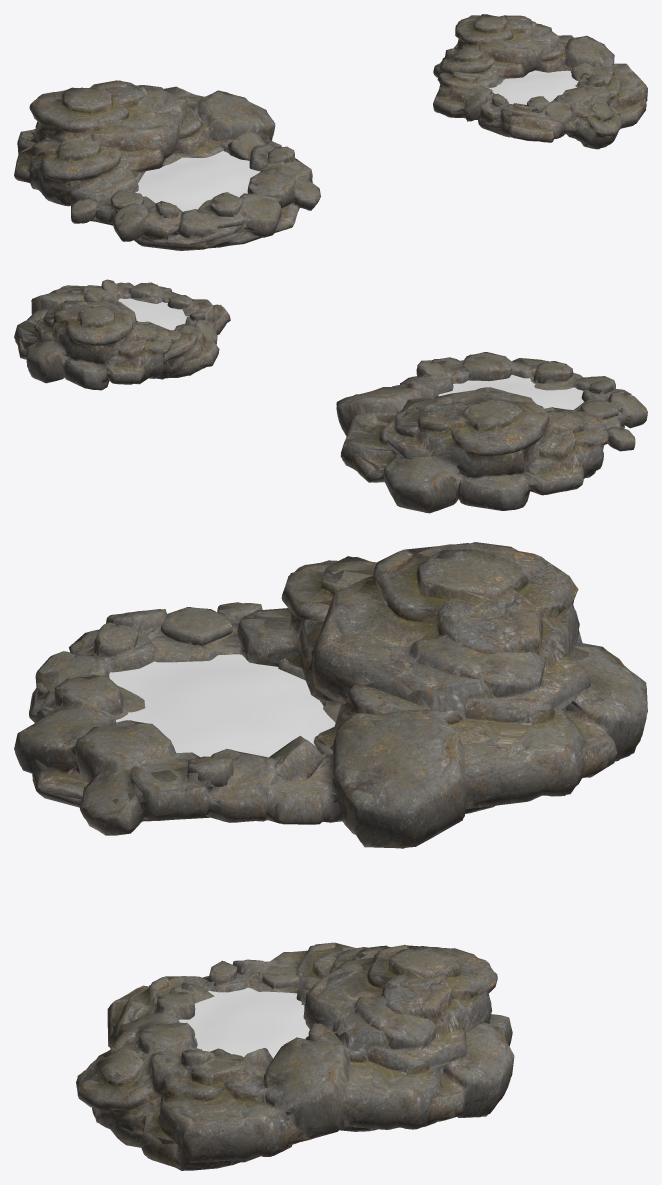
Rendered from StoneWells_A.fbx.
The picture shows the model from 3 angles, top to bottom: view 1: azimuth 30°, elevation 25°; view 2: azimuth 150°, elevation 25°; view 3: azimuth 270°, elevation 25°; orthographic projection. The views are drawn at different scales.
Visible parts, largest first — view 1: StoneWell_1A1, StoneWell_1A1.001, StoneWell_1A1.002, StoneWell_1A2, StoneWell_1A2.001, StoneWell_1A2.002, StoneWell_Water_1A1, StoneWell_Water_1A2; view 2: StoneWell_1A1, StoneWell_1A1.001, StoneWell_1A1.002, StoneWell_1A2, StoneWell_1A2.001, StoneWell_1A2.002, StoneWell_Water_1A1, StoneWell_Water_1A2; view 3: StoneWell_1A1, StoneWell_1A1.001, StoneWell_1A1.002, StoneWell_1A2, StoneWell_1A2.002, StoneWell_1A2.001, StoneWell_Water_1A1, StoneWell_Water_1A2.
Boxes of the visible parts, x1,y1,x2,y2 form: StoneWell_1A1: (14, 80, 320, 249); StoneWell_1A1.001: (14, 80, 320, 250); StoneWell_1A1.002: (14, 80, 320, 250); StoneWell_1A2: (433, 14, 647, 148); StoneWell_1A2.001: (433, 14, 647, 149); StoneWell_1A2.002: (433, 14, 647, 149); StoneWell_Water_1A1: (135, 151, 260, 211); StoneWell_Water_1A2: (489, 70, 578, 104); StoneWell_1A1: (336, 352, 647, 512); StoneWell_1A1.001: (336, 352, 647, 512); StoneWell_1A1.002: (336, 352, 647, 513); StoneWell_1A2: (15, 279, 230, 389); StoneWell_1A2.001: (14, 280, 230, 389); StoneWell_1A2.002: (14, 279, 230, 390); StoneWell_Water_1A1: (438, 374, 583, 409); StoneWell_Water_1A2: (118, 298, 189, 330); StoneWell_1A1: (15, 542, 647, 848); StoneWell_1A1.001: (15, 544, 647, 848); StoneWell_1A1.002: (14, 543, 647, 847); StoneWell_1A2: (76, 942, 513, 1170); StoneWell_1A2.002: (76, 942, 514, 1168); StoneWell_1A2.001: (77, 942, 513, 1170); StoneWell_Water_1A1: (109, 654, 335, 757); StoneWell_Water_1A2: (178, 987, 309, 1058).
Size of the model in its own units: 3767 by 567 by 1890.
